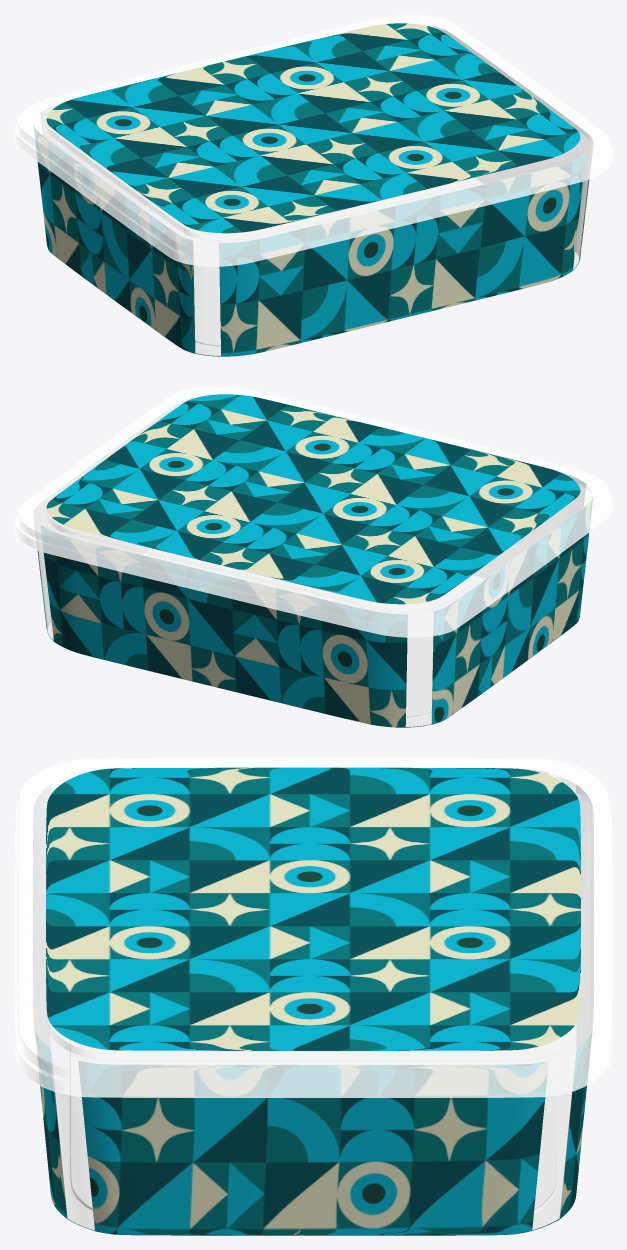
File: 250-SB-5-side-lable.glb
The picture shows the model from 3 angles, top to bottom: view 1: azimuth 30°, elevation 25°; view 2: azimuth 150°, elevation 25°; view 3: azimuth 270°, elevation 25°; orthographic projection. The views are drawn at different scales.
Visible parts, largest first — view 1: Lid001, label, Lid002, white_label, solidify001, Lid005; view 2: Lid001, label, Lid002, white_label, solidify001, Lid005; view 3: Lid001, label, Lid002, white_label, solidify001, Lid005.
Boxes of the visible parts, left/top/right/bottom form: Lid001: left=46, top=23, right=580, bottom=233; label: left=34, top=117, right=589, bottom=356; Lid002: left=14, top=14, right=612, bottom=266; white_label: left=41, top=26, right=592, bottom=356; solidify001: left=193, top=180, right=587, bottom=355; Lid005: left=47, top=122, right=579, bottom=233; Lid001: left=46, top=394, right=580, bottom=604; label: left=37, top=499, right=592, bottom=727; Lid002: left=14, top=385, right=612, bottom=637; white_label: left=34, top=397, right=585, bottom=727; solidify001: left=39, top=551, right=433, bottom=726; Lid005: left=47, top=493, right=579, bottom=604; Lid001: left=46, top=767, right=580, bottom=1050; label: left=33, top=785, right=593, bottom=1235; Lid002: left=14, top=756, right=612, bottom=1097; white_label: left=33, top=770, right=593, bottom=1230; solidify001: left=55, top=1092, right=571, bottom=1229; Lid005: left=46, top=1010, right=580, bottom=1051.
Size of the model in its own units: 0.1524 by 0.0413 by 0.1217.
Materials: 8 (4 with a texture image).
